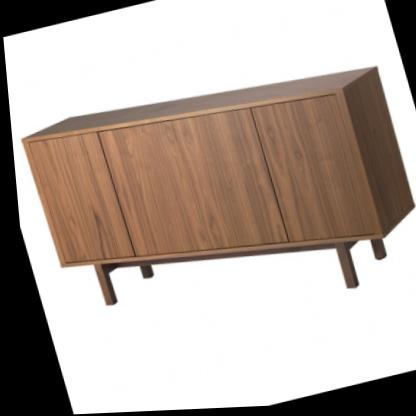Cabinet: (5, 41, 416, 358)
